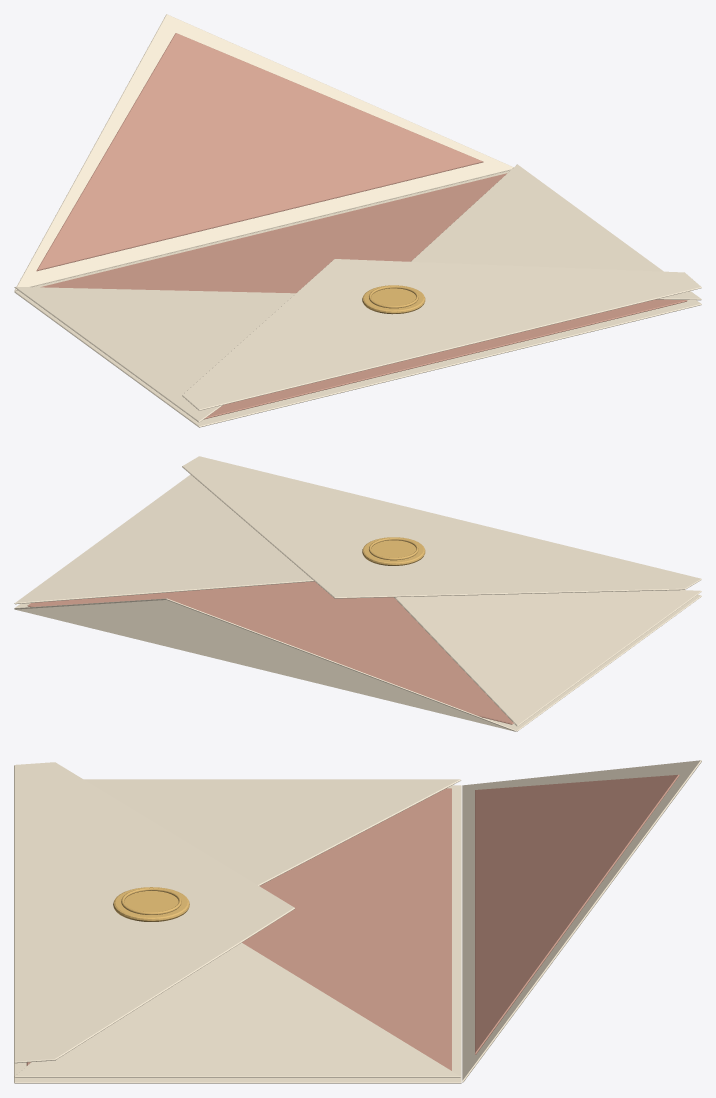
The model's file is open_envelope.glb.
3 views of the same model, one above another, from view 1: azimuth 30°, elevation 25°; view 2: azimuth 150°, elevation 25°; view 3: azimuth 270°, elevation 25° (orthographic). The views are drawn at different scales.
Parts seen in each view (by area): view 1: open_envelope; view 2: open_envelope; view 3: open_envelope.
Part boxes in pixels (box(x1,y1,x2,y2)): open_envelope: box(14, 14, 701, 427); open_envelope: box(14, 456, 701, 731); open_envelope: box(14, 760, 701, 1083).
Bounding box in the file's own units: 0.22 × 0.0604 × 0.2151.
